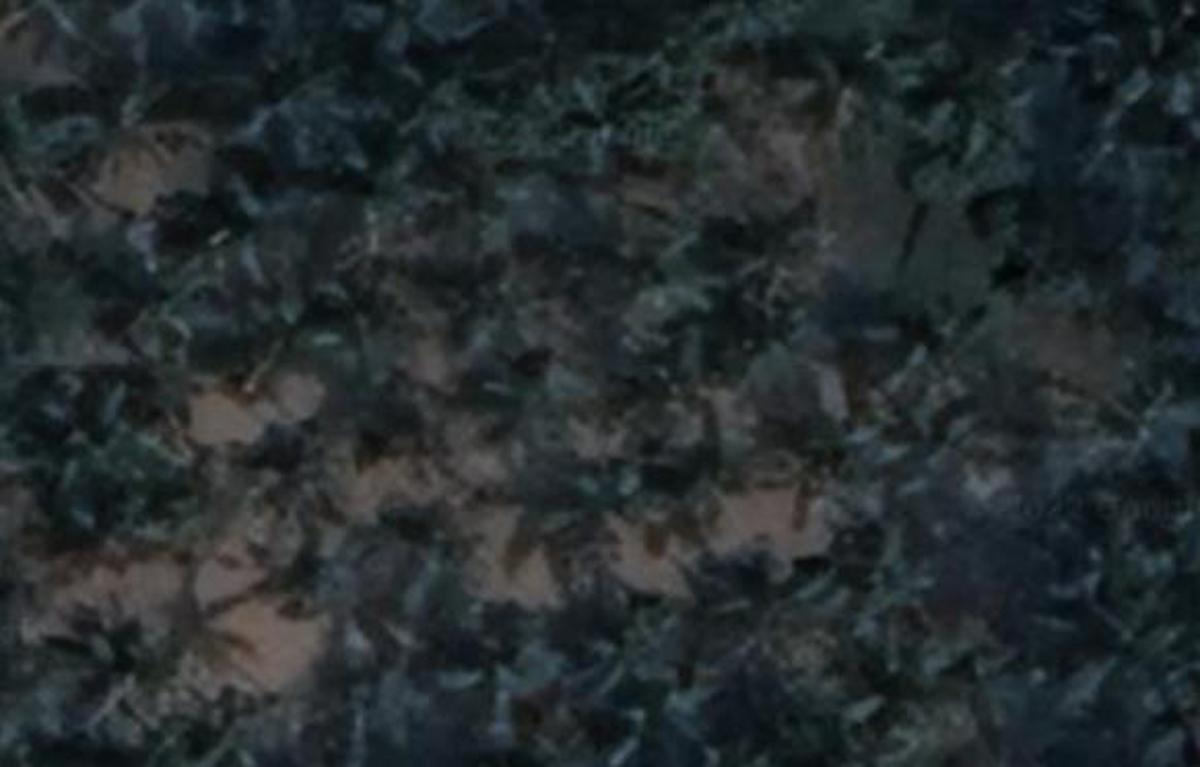coconut: (463, 325, 606, 457), (909, 24, 1043, 156), (534, 426, 661, 564), (329, 610, 468, 734), (783, 24, 913, 154), (224, 402, 350, 536), (435, 606, 564, 729), (49, 610, 171, 738), (719, 191, 841, 313), (550, 587, 680, 701), (321, 142, 441, 265), (593, 313, 707, 441), (226, 290, 344, 412), (703, 542, 832, 653), (47, 72, 167, 187), (204, 175, 325, 288), (369, 480, 474, 610), (917, 635, 1041, 744), (263, 494, 379, 610), (136, 564, 251, 680), (764, 399, 884, 507), (546, 61, 655, 179), (98, 241, 218, 348), (837, 523, 956, 630), (39, 375, 158, 482), (595, 214, 711, 323), (861, 282, 991, 379), (847, 624, 960, 734), (713, 298, 820, 412), (311, 336, 422, 445), (1072, 585, 1179, 698), (439, 247, 548, 354), (400, 51, 505, 162), (63, 470, 173, 575), (591, 670, 707, 767), (241, 45, 340, 158), (1098, 10, 1200, 119), (647, 414, 748, 523), (1086, 354, 1193, 455), (851, 373, 952, 480), (171, 674, 284, 767), (1041, 505, 1150, 599), (620, 49, 717, 142), (925, 397, 1018, 488)
